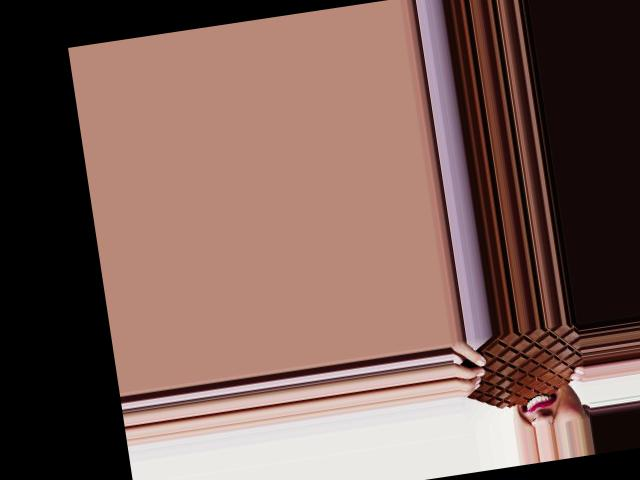chocolate: (449, 323, 587, 417)
